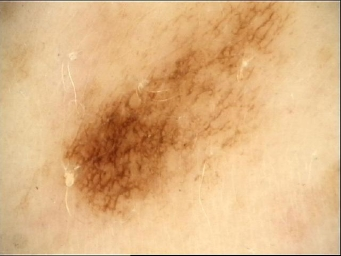melanoma: (152, 6, 295, 162), (65, 95, 183, 211)
